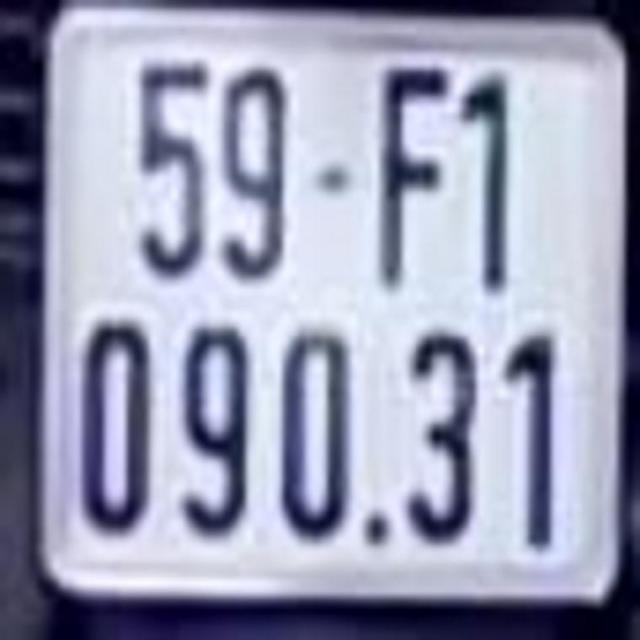0: (278, 316, 349, 548), (79, 306, 148, 536)
1: (501, 319, 572, 555), (458, 57, 521, 297)
3: (406, 317, 478, 548)
5: (131, 51, 209, 276)
9: (217, 57, 290, 280), (180, 310, 248, 540)
F: (374, 56, 453, 286)
